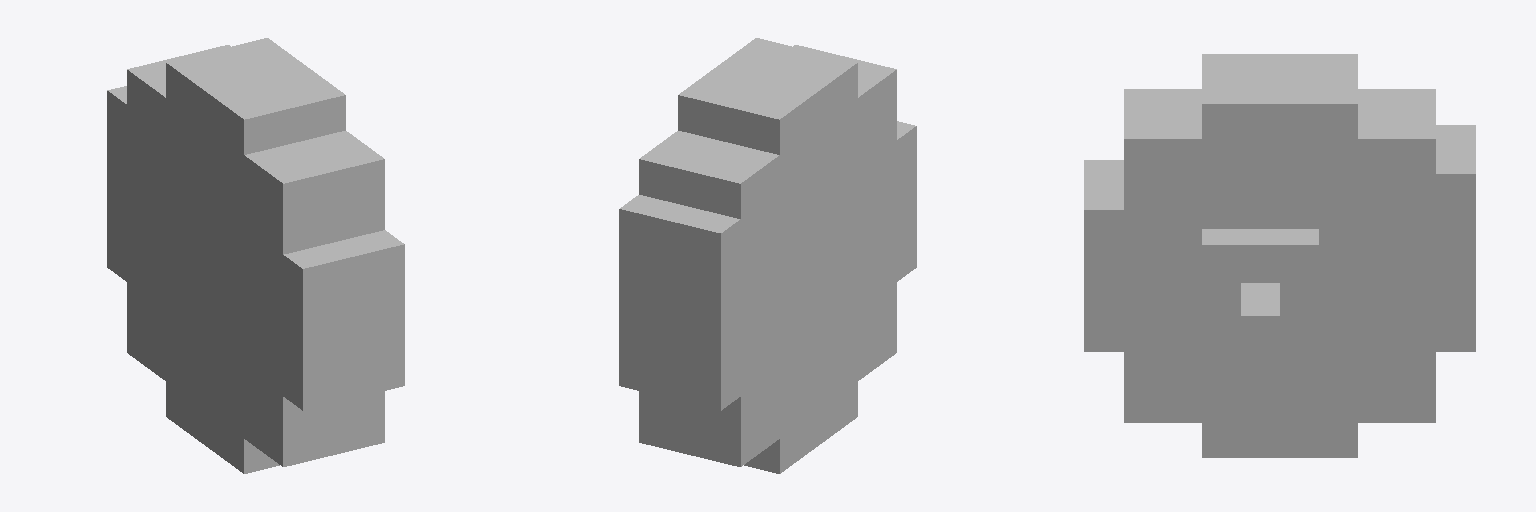
File: wheel.obj
3 views of the same model, side by side, from view 1: azimuth 30°, elevation 25°; view 2: azimuth 150°, elevation 25°; view 3: azimuth 270°, elevation 25° (orthographic).
Parts seen in each view (by area): view 1: object 1; view 2: object 1; view 3: object 1.
Boxes of the visible parts, x1=… form: object 1: x1=107, y1=38, x2=404, y2=473; object 1: x1=619, y1=38, x2=916, y2=473; object 1: x1=1084, y1=54, x2=1475, y2=457.
Bounding box in the file's own units: 0.3 × 1 × 1.